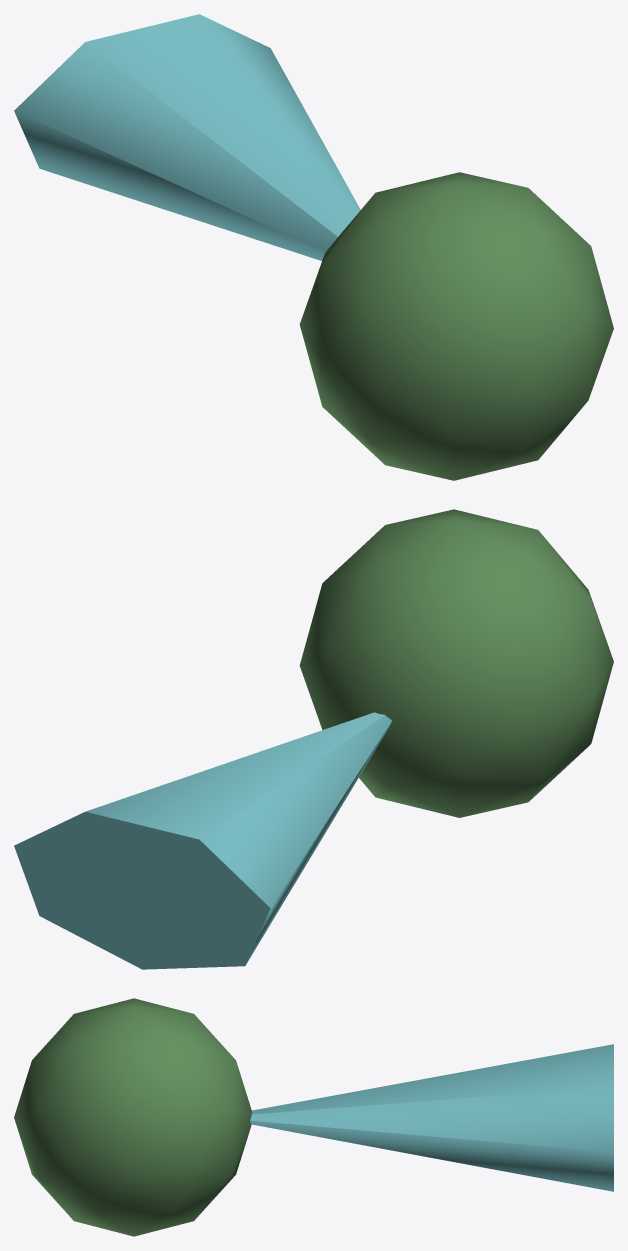
The model's file is wpn_r_06.glb.
3 views of the same model, one above another, from view 1: azimuth 30°, elevation 25°; view 2: azimuth 150°, elevation 25°; view 3: azimuth 270°, elevation 25° (orthographic). The views are drawn at different scales.
Parts seen in each view (by area): view 1: projectile_core, projectile_trail; view 2: projectile_core, projectile_trail; view 3: projectile_core, projectile_trail.
Part boxes in pixels (x1,y1,x2,y2): projectile_core: (299,172,613,480); projectile_trail: (14,14,360,260); projectile_core: (299,509,613,817); projectile_trail: (14,712,391,969); projectile_core: (14,998,252,1236); projectile_trail: (250,1044,613,1191).
Bounding box in the file's own units: 0.3 × 0.3 × 0.75.
